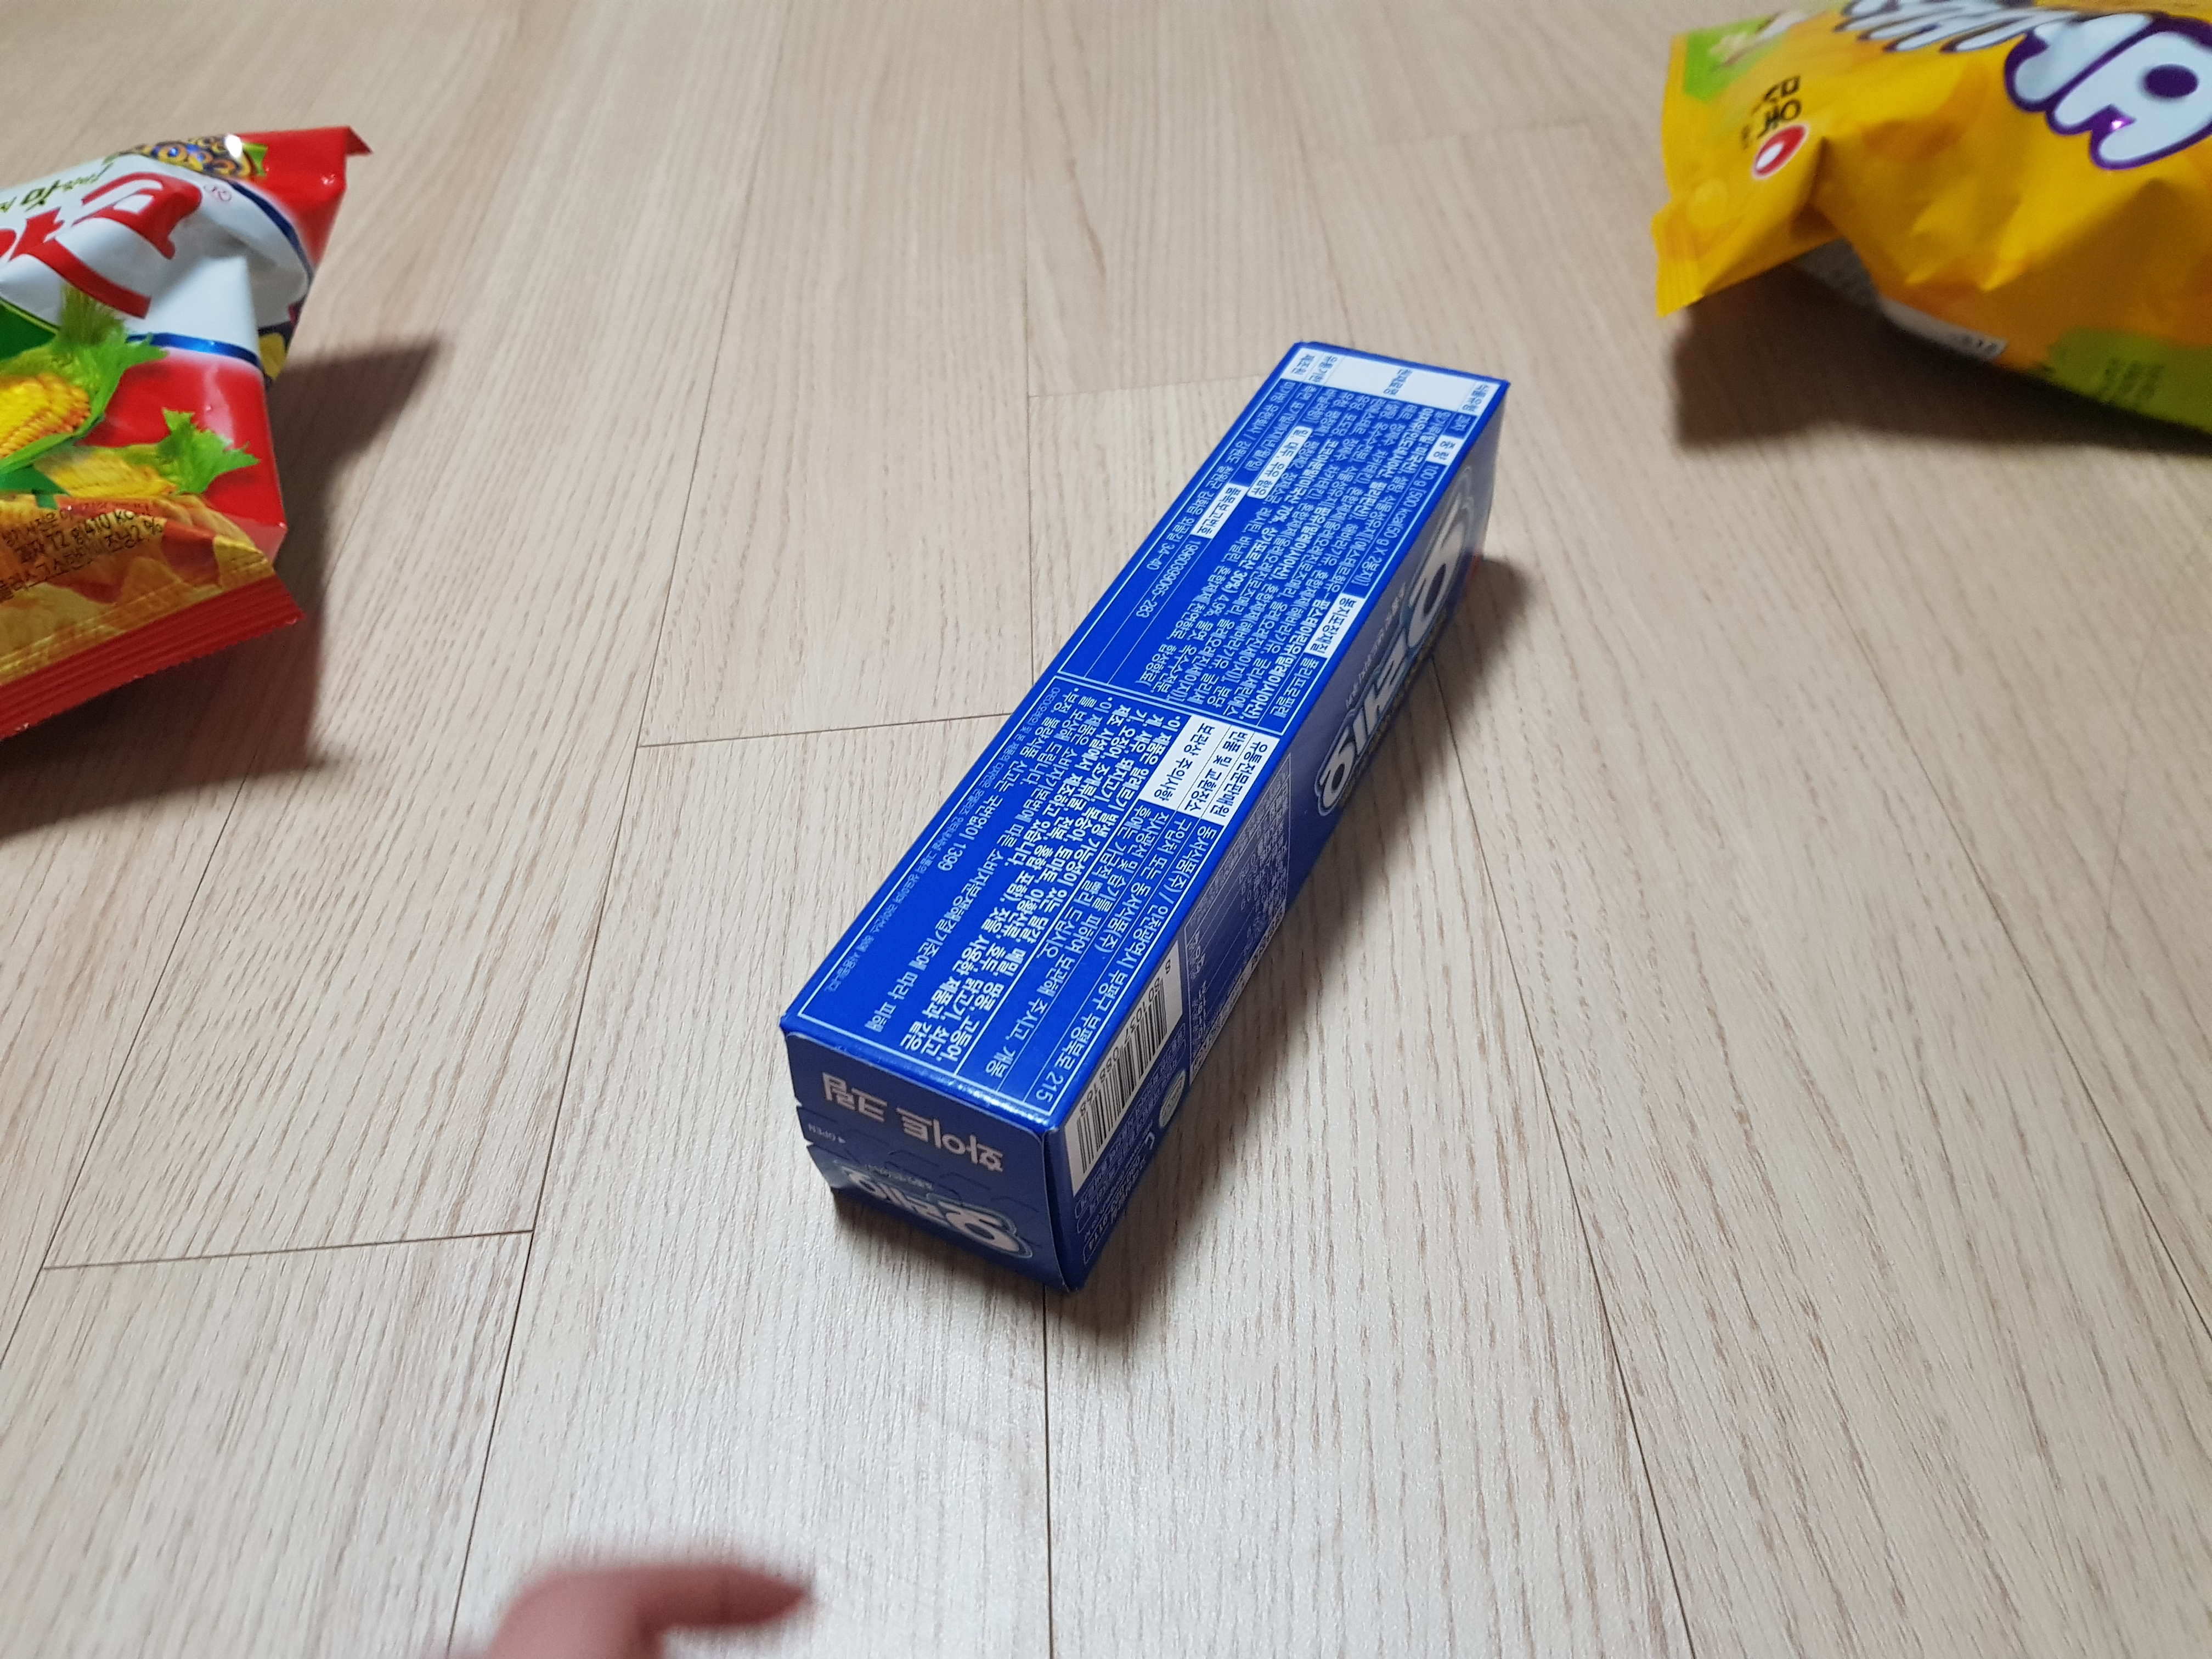banana: (1641, 9, 2212, 441)
ggoggalcon: (0, 131, 364, 786)
oreo: (791, 336, 1512, 1304)
